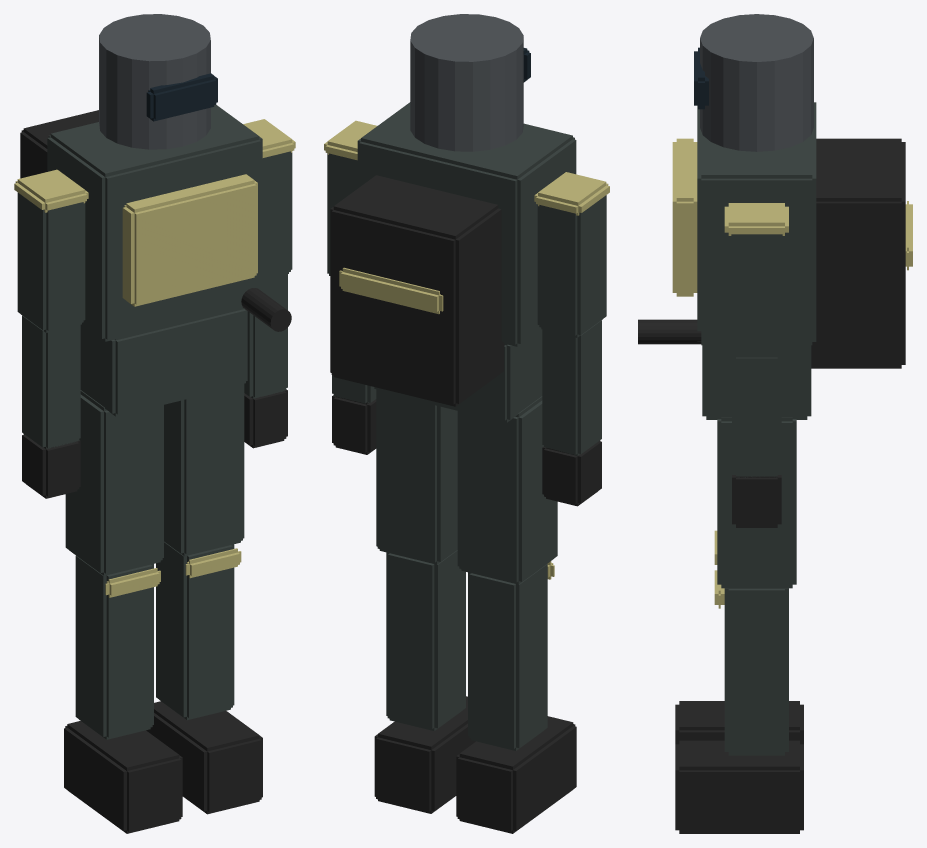
Rendered from player_base_z10.glb.
3 renders of one model, left to right at view 1: azimuth 30°, elevation 25°; view 2: azimuth 150°, elevation 25°; view 3: azimuth 270°, elevation 25°, orthographic.
Parts seen in each view (by area): view 1: PLAYER_BASE_Torso, PLAYER_BASE_Thigh_-1, PLAYER_BASE_ChestRig, PLAYER_BASE_Pelvis, PLAYER_BASE_Thigh_1, PLAYER_BASE_Shin_-1, PLAYER_BASE_Helmet, PLAYER_BASE_Shin_1, PLAYER_BASE_Boot_-1, PLAYER_BASE_UpperArm_-1, PLAYER_BASE_Boot_1, PLAYER_BASE_Forearm_-1 (+11 smaller); view 2: PLAYER_BASE_Backpack, PLAYER_BASE_Torso, PLAYER_BASE_Thigh_-1, PLAYER_BASE_Helmet, PLAYER_BASE_Shin_-1, PLAYER_BASE_Shin_1, PLAYER_BASE_Thigh_1, PLAYER_BASE_Boot_-1, PLAYER_BASE_UpperArm_-1, PLAYER_BASE_Boot_1, PLAYER_BASE_Forearm_-1, PLAYER_BASE_Pelvis (+7 smaller); view 3: PLAYER_BASE_Backpack, PLAYER_BASE_Torso, PLAYER_BASE_Helmet, PLAYER_BASE_Boot_1, PLAYER_BASE_Shin_1, PLAYER_BASE_Thigh_1, PLAYER_BASE_UpperArm_1, PLAYER_BASE_Forearm_1, PLAYER_BASE_Pelvis, PLAYER_BASE_ChestRig, PLAYER_BASE_Boot_-1, PLAYER_BASE_Glove_1 (+4 smaller).
Boxes of the visible parts, x1,y1,x2,y2 form: PLAYER_BASE_Torso: (47, 105, 262, 341); PLAYER_BASE_Thigh_-1: (65, 390, 163, 575); PLAYER_BASE_ChestRig: (122, 174, 257, 306); PLAYER_BASE_Pelvis: (80, 308, 247, 416); PLAYER_BASE_Thigh_1: (164, 384, 244, 556); PLAYER_BASE_Shin_-1: (75, 555, 153, 739); PLAYER_BASE_Helmet: (99, 14, 210, 149); PLAYER_BASE_Shin_1: (156, 541, 234, 720); PLAYER_BASE_Boot_-1: (64, 721, 182, 833); PLAYER_BASE_UpperArm_-1: (17, 192, 85, 332); PLAYER_BASE_Boot_1: (146, 701, 262, 814); PLAYER_BASE_Forearm_-1: (22, 315, 80, 448); PLAYER_BASE_Backpack: (330, 175, 504, 406); PLAYER_BASE_Torso: (357, 102, 576, 346); PLAYER_BASE_Thigh_-1: (457, 396, 557, 584); PLAYER_BASE_Helmet: (410, 14, 523, 151); PLAYER_BASE_Shin_-1: (468, 564, 547, 750); PLAYER_BASE_Shin_1: (386, 550, 465, 730); PLAYER_BASE_Thigh_1: (376, 391, 457, 564); PLAYER_BASE_Boot_-1: (456, 716, 576, 833); PLAYER_BASE_UpperArm_-1: (537, 195, 606, 337); PLAYER_BASE_Boot_1: (374, 696, 475, 813); PLAYER_BASE_Forearm_-1: (542, 320, 601, 455); PLAYER_BASE_Pelvis: (374, 329, 542, 422); PLAYER_BASE_Backpack: (811, 138, 905, 368); PLAYER_BASE_Torso: (697, 102, 816, 345); PLAYER_BASE_Helmet: (700, 14, 813, 151); PLAYER_BASE_Boot_1: (675, 740, 803, 833); PLAYER_BASE_Shin_1: (724, 588, 788, 755); PLAYER_BASE_Thigh_1: (717, 417, 796, 588); PLAYER_BASE_UpperArm_1: (727, 232, 786, 358); PLAYER_BASE_Forearm_1: (732, 357, 781, 477); PLAYER_BASE_Pelvis: (702, 345, 811, 419); PLAYER_BASE_ChestRig: (672, 138, 697, 296); PLAYER_BASE_Boot_-1: (675, 701, 803, 744); PLAYER_BASE_Glove_1: (732, 475, 781, 527).
Size of the model in its own units: 0.6 by 1.7 by 0.555.
